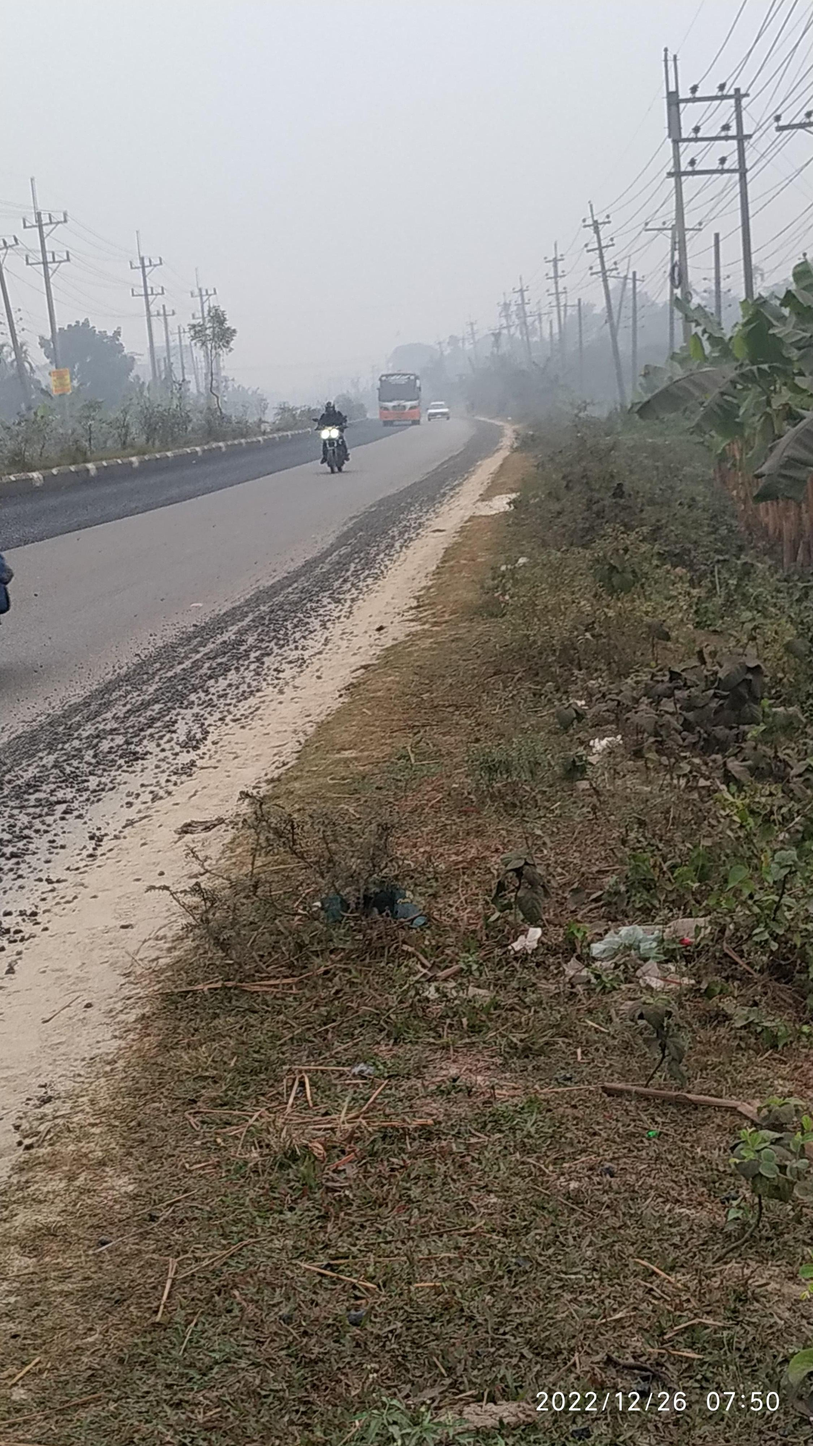Bike: (292, 396, 369, 501)
Bus: (358, 351, 430, 441)
Car: (421, 387, 470, 426)
